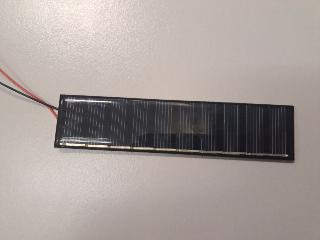solarboard: (54, 95, 294, 160)
